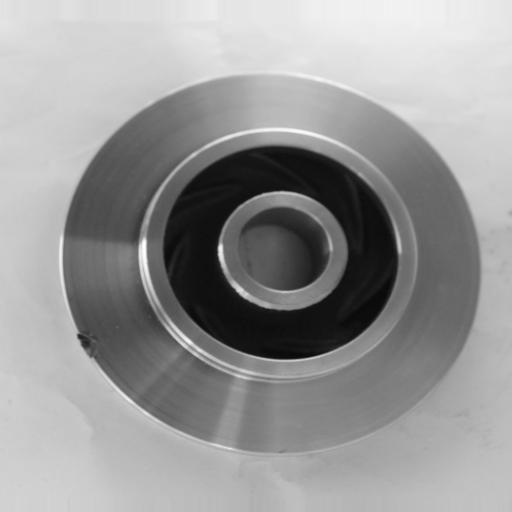crack: (67, 326, 117, 376)
unpolished_casting: (58, 68, 484, 459)
